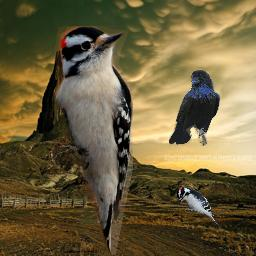Crow: (169, 69, 220, 146)
Woodpecker: (51, 26, 133, 255), (176, 186, 220, 228)
